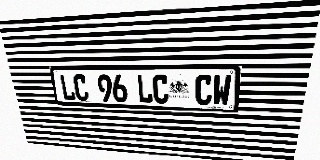6: (111, 74, 128, 102)
9: (96, 74, 113, 102)
C: (195, 75, 213, 105), (152, 74, 169, 104), (72, 74, 89, 101)
L: (136, 74, 153, 103), (59, 74, 76, 101)
W: (212, 75, 232, 106)
